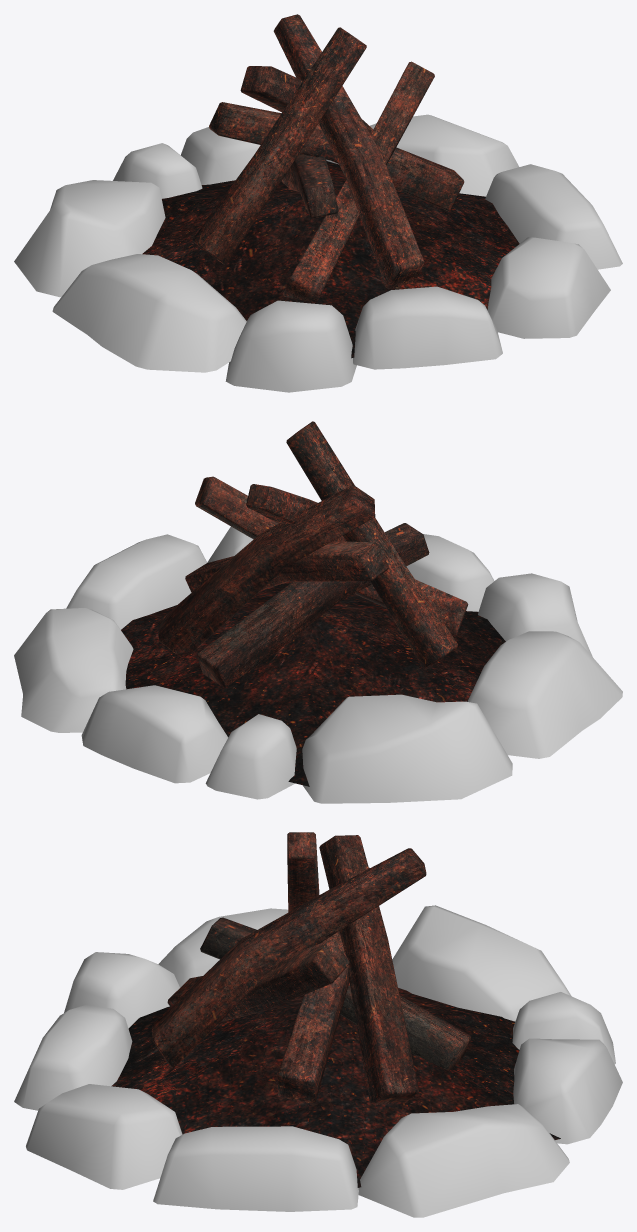
Rendered from Fire.FBX.
The picture shows the model from 3 angles, top to bottom: view 1: azimuth 30°, elevation 25°; view 2: azimuth 150°, elevation 25°; view 3: azimuth 270°, elevation 25°; orthographic projection. The views are drawn at different scales.
Visible parts, largest first — view 1: mesh; view 2: mesh; view 3: mesh.
Boxes of the visible parts, left/top/right/bottom form: mesh: left=14, top=14, right=622, bottom=392; mesh: left=14, top=421, right=622, bottom=803; mesh: left=14, top=832, right=622, bottom=1217.
Bounding box in the file's own units: 137 × 133 × 64.63.
